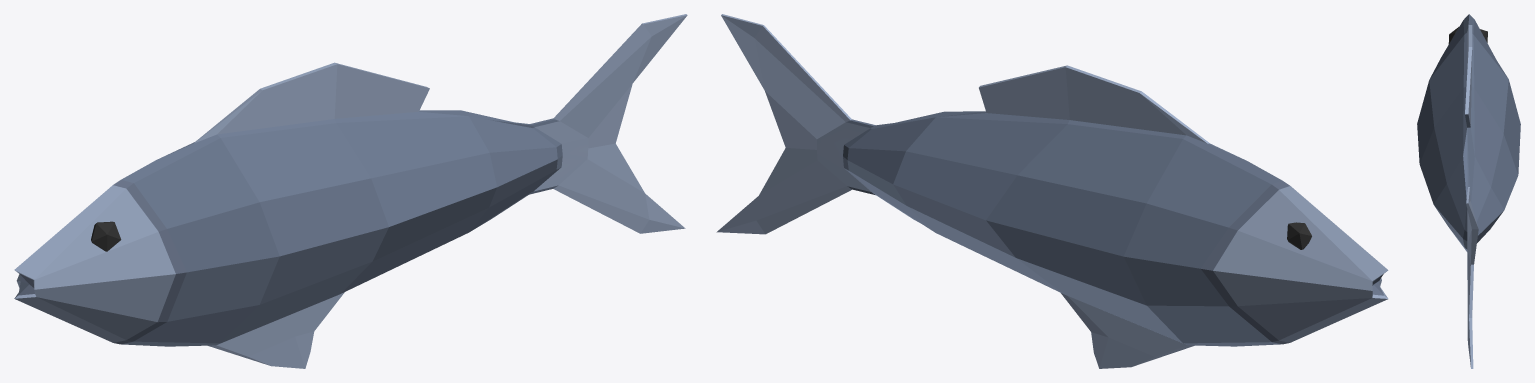
File: Fish_01.fbx
3 views of the same model, side by side, from view 1: azimuth 30°, elevation 25°; view 2: azimuth 150°, elevation 25°; view 3: azimuth 270°, elevation 25° (orthographic). The views are drawn at different scales.
Visible parts, largest first — view 1: Fish_01; view 2: Fish_01; view 3: Fish_01.
Part boxes in pixels (box(x1,y1,x2,y2)): Fish_01: box(14, 14, 687, 368); Fish_01: box(716, 14, 1388, 368); Fish_01: box(1417, 14, 1520, 368).
Bounding box in the file's own units: 37.33 × 15.72 × 6.53.
